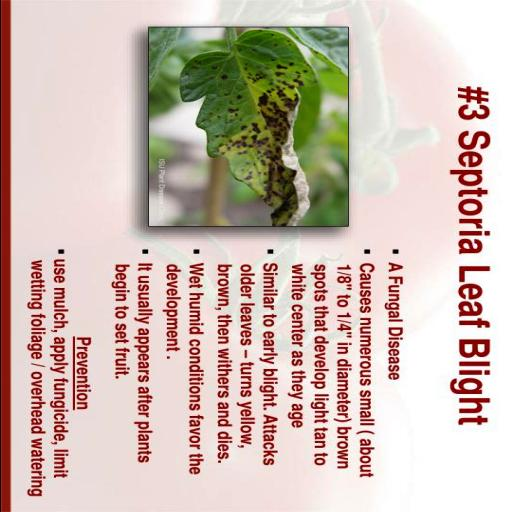disease_tomato: (168, 28, 314, 224)
